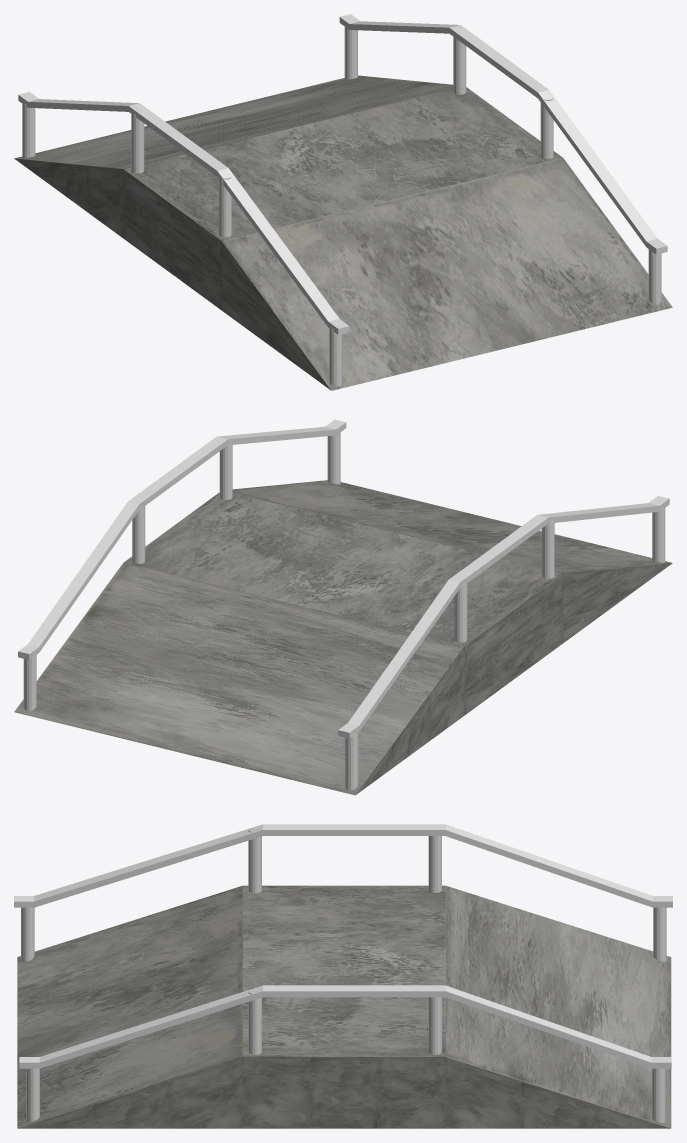
Rendered from Rampa Grande.glb.
The picture shows the model from 3 angles, top to bottom: view 1: azimuth 30°, elevation 25°; view 2: azimuth 150°, elevation 25°; view 3: azimuth 270°, elevation 25°; orthographic projection. The views are drawn at different scales.
Visible parts, largest first — view 1: Rampa, Soportes; view 2: Rampa, Soportes; view 3: Rampa, Soportes.
Boxes of the visible parts, x1,y1,x2,y2 form: Rampa: (14,75,672,390); Soportes: (18,14,667,386); Rampa: (14,480,672,795); Soportes: (18,419,669,790); Rampa: (17,885,671,1128); Soportes: (14,824,672,1122).
Size of the model in its own units: 3.6 by 1.33 by 5.85.
Materials: 1 (1 with a texture image).
